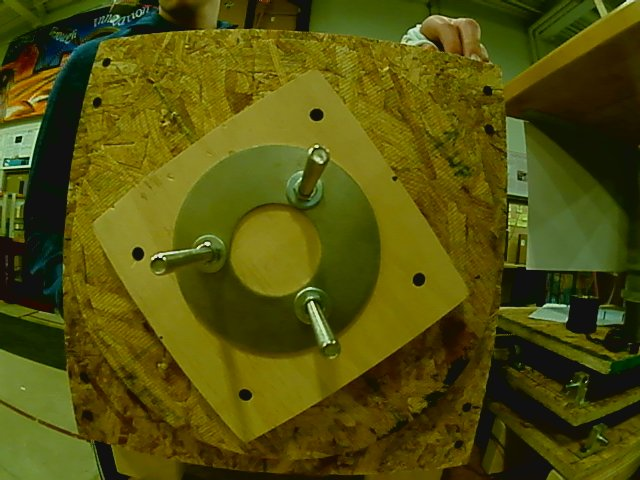bolt: (285, 168, 324, 212), (292, 285, 333, 326), (193, 233, 227, 274)
